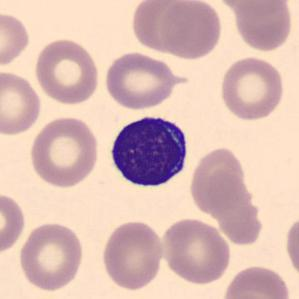Lymphocyte: (104, 108, 193, 194)
RBC: (26, 114, 102, 189), (100, 50, 189, 111), (158, 216, 233, 285), (16, 220, 86, 293), (32, 36, 102, 106), (100, 218, 165, 292), (216, 54, 286, 122), (187, 144, 249, 215), (157, 0, 224, 61), (130, 0, 197, 56), (232, 1, 295, 53), (0, 68, 43, 138), (220, 263, 293, 299), (0, 10, 32, 69), (0, 189, 27, 256), (213, 0, 291, 16), (283, 212, 299, 281), (220, 291, 285, 299)
